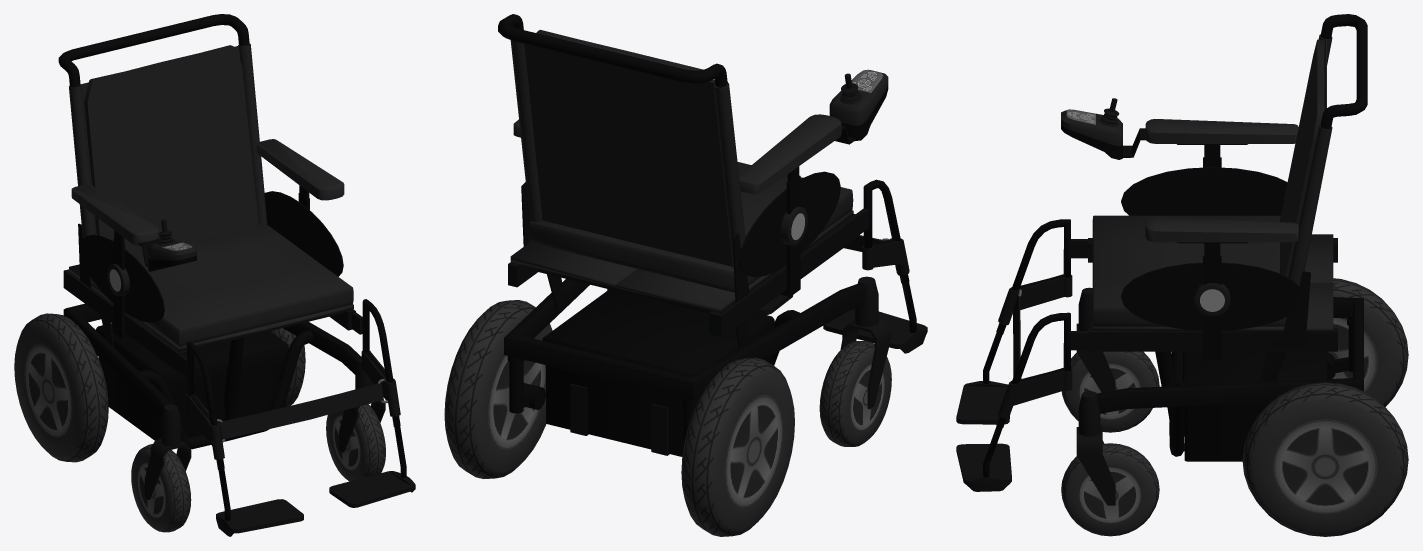
The model's file is electricWheelchair.obj.
The picture shows the model from 3 angles, left to right: view 1: azimuth 30°, elevation 25°; view 2: azimuth 150°, elevation 25°; view 3: azimuth 270°, elevation 25°; orthographic projection. The views are drawn at different scales.
Visible parts, largest first — view 1: TopCushion, Wheels, Cushion, Battery, SideProtections, Armrest, LowStructure, FootSupports, Back, SeatStructure, MetallicBars, FabricUnion (+7 smaller); view 2: Back, Wheels, Battery, Cushion, LowStructure, Armrest, SeatStructure, SideProtections, BackBar, Command, PlasticWheelProtections, FootSupports (+7 smaller); view 3: Wheels, SideProtections, Cushion, Armrest, Battery, LowStructure, SeatStructure, PlasticWheelProtections, FootSupports, TopCushion, MetallicBars, PlasticBarProtections (+8 smaller).
Boxes of the visible parts, bbox=[...] form: TopCushion: bbox=[84, 45, 258, 256]; Wheels: bbox=[14, 313, 385, 532]; Cushion: bbox=[69, 224, 353, 351]; Battery: bbox=[96, 323, 288, 440]; SideProtections: bbox=[80, 191, 343, 322]; Armrest: bbox=[71, 139, 344, 338]; LowStructure: bbox=[63, 303, 361, 449]; FootSupports: bbox=[216, 471, 415, 536]; Back: bbox=[69, 44, 267, 238]; SeatStructure: bbox=[63, 269, 362, 376]; MetallicBars: bbox=[187, 299, 406, 520]; FabricUnion: bbox=[219, 383, 383, 438]; Back: bbox=[510, 40, 745, 268]; Wheels: bbox=[444, 300, 891, 536]; Battery: bbox=[542, 289, 774, 456]; Cushion: bbox=[510, 162, 853, 312]; LowStructure: bbox=[504, 279, 865, 400]; Armrest: bbox=[513, 114, 841, 296]; SeatStructure: bbox=[508, 208, 868, 337]; SideProtections: bbox=[738, 171, 840, 277]; BackBar: bbox=[498, 14, 727, 87]; Command: bbox=[829, 69, 888, 144]; PlasticWheelProtections: bbox=[607, 276, 891, 409]; FootSupports: bbox=[756, 294, 927, 353]; Wheels: bbox=[1061, 278, 1408, 536]; SideProtections: bbox=[1121, 167, 1303, 330]; Cushion: bbox=[1092, 215, 1333, 331]; Armrest: bbox=[1145, 119, 1298, 360]; Battery: bbox=[1183, 351, 1327, 461]; LowStructure: bbox=[1097, 297, 1363, 456]; SeatStructure: bbox=[1070, 238, 1337, 351]; PlasticWheelProtections: bbox=[1076, 287, 1115, 505]; FootSupports: bbox=[956, 381, 1011, 491]; TopCushion: bbox=[1280, 39, 1324, 277]; MetallicBars: bbox=[983, 219, 1070, 477]; PlasticBarProtections: bbox=[998, 275, 1072, 418].
Size of the model in its own units: 55.38 by 91.36 by 88.57.
Materials: 29 (3 with a texture image).
